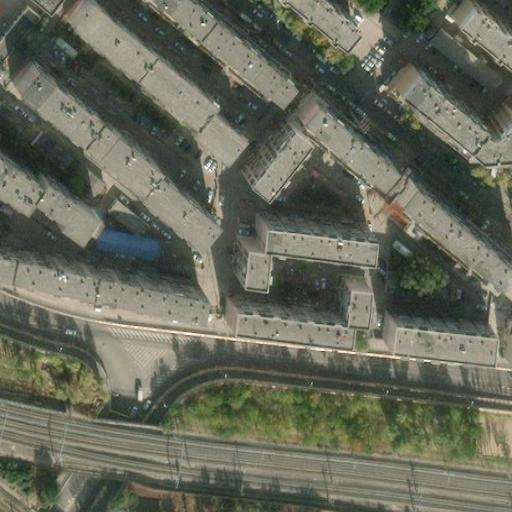building: (8, 72, 213, 258), (46, 0, 227, 152), (0, 260, 203, 333), (393, 197, 512, 307), (295, 111, 401, 207), (398, 86, 512, 172), (228, 216, 364, 283), (221, 278, 356, 341), (0, 165, 87, 247), (424, 22, 505, 93), (269, 0, 356, 58), (387, 329, 492, 373), (243, 138, 307, 210), (88, 220, 153, 260)
